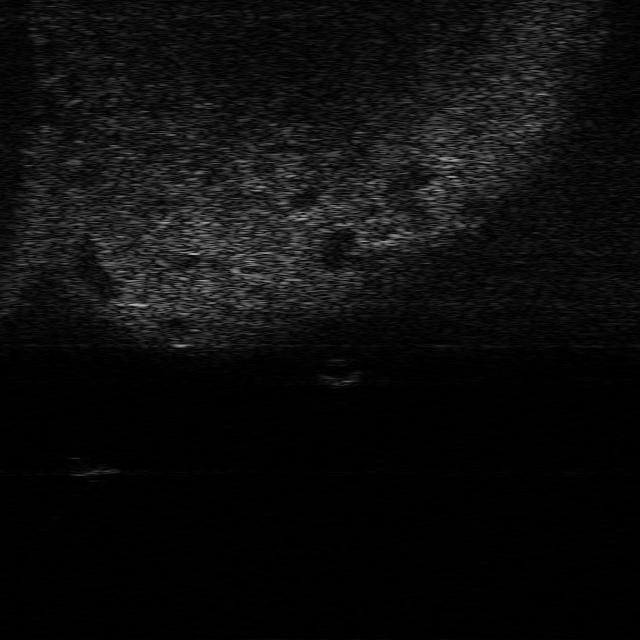ball: (314, 357, 360, 390)
cube: (68, 454, 120, 478)
